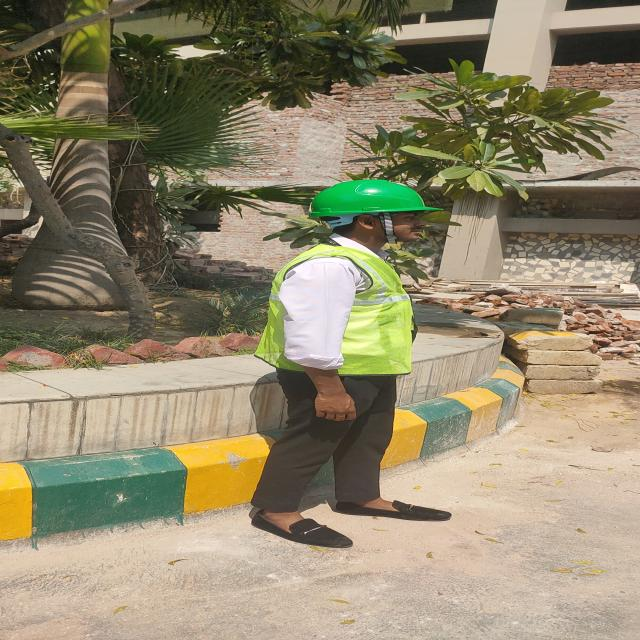safe: (256, 180, 451, 546)
